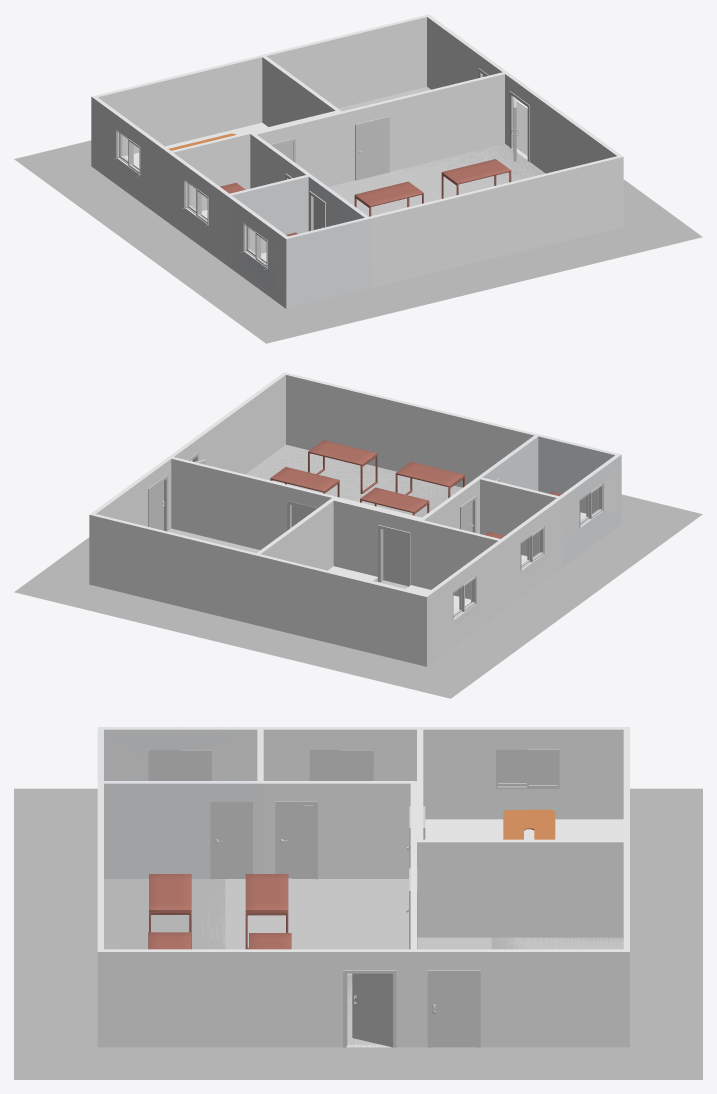
The model's file is coworking2.gltf.
The picture shows the model from 3 angles, top to bottom: view 1: azimuth 30°, elevation 25°; view 2: azimuth 150°, elevation 25°; view 3: azimuth 270°, elevation 25°; orthographic projection. The views are drawn at different scales.
Parts seen in each view (by area): view 1: Walls, Background, Room1, Room3, Room2, Floor.000, Door.002, Table.003, Table.001; view 2: Walls, Background, Room3, Room2, Room1, Floor.000, Door.005, Table.002, Table, Table.003, Table.001, DoorFrame.005 (+1 smaller); view 3: Walls, Background, Room3, Room1, Room2, Floor.000, Door.001, Door, Door.003, Door.004, Table.001, Table (+14 smaller).
Part boxes in pixels (x1,y1,x2,y2): Walls: (91, 14, 623, 308); Background: (14, 99, 702, 343); Room1: (226, 174, 371, 308); Room3: (91, 55, 337, 217); Room2: (167, 132, 312, 263); Floor.000: (328, 87, 544, 216); Door.002: (358, 119, 387, 179); Table.003: (441, 159, 511, 198); Table.001: (354, 181, 423, 216); Walls: (89, 372, 621, 666); Background: (14, 446, 702, 698); Room3: (254, 498, 504, 666); Room2: (417, 476, 561, 610); Room1: (478, 435, 621, 568); Floor.000: (170, 444, 461, 588); Door.005: (383, 529, 407, 585); Table.002: (308, 440, 377, 493); Table: (395, 461, 464, 497); Table.003: (270, 467, 339, 497); Table.001: (360, 487, 429, 515); DoorFrame.005: (378, 525, 410, 586); Walls: (97, 727, 629, 1047); Background: (14, 788, 702, 1079); Room3: (417, 727, 629, 937); Room1: (97, 727, 263, 878); Room2: (257, 727, 423, 878); Floor.000: (105, 879, 623, 1046); Door.001: (431, 973, 477, 1047); Door: (352, 973, 392, 1047); Door.003: (214, 805, 249, 878); Door.004: (279, 805, 314, 878); Table.001: (245, 874, 288, 949); Table: (149, 874, 191, 949).
Bounding box in the file's own units: 16.18 × 2.49 × 16.18.
